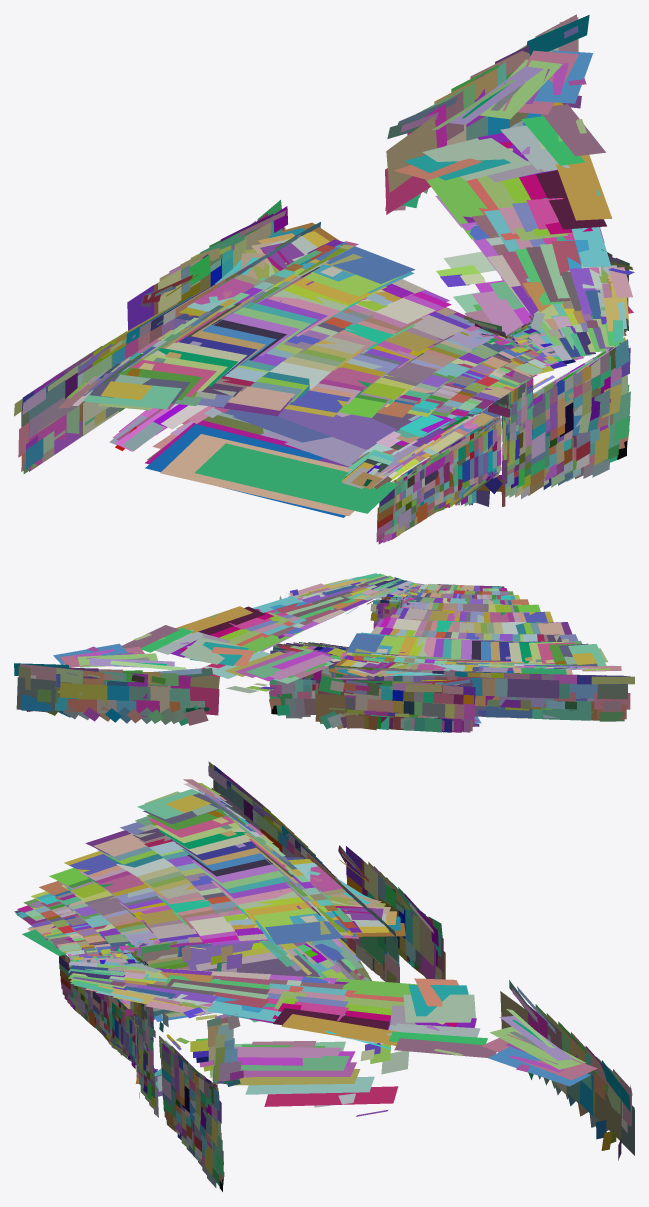
File: planarSplat_rawPrims_normalized_colorPrim.glb
The picture shows the model from 3 angles, top to bottom: view 1: azimuth 30°, elevation 25°; view 2: azimuth 150°, elevation 25°; view 3: azimuth 270°, elevation 25°; orthographic projection. The views are drawn at different scales.
Parts seen in each view (by area): view 1: planarSplat_rawPrims_normalized_colorPrim.ply; view 2: planarSplat_rawPrims_normalized_colorPrim.ply; view 3: planarSplat_rawPrims_normalized_colorPrim.ply.
Part boxes in pixels (x1,y1,x2,y2): planarSplat_rawPrims_normalized_colorPrim.ply: [14, 14, 634, 544]; planarSplat_rawPrims_normalized_colorPrim.ply: [14, 573, 634, 732]; planarSplat_rawPrims_normalized_colorPrim.ply: [14, 761, 634, 1191].
Size of the model in its own units: 10.11 by 2.64 by 7.83.
